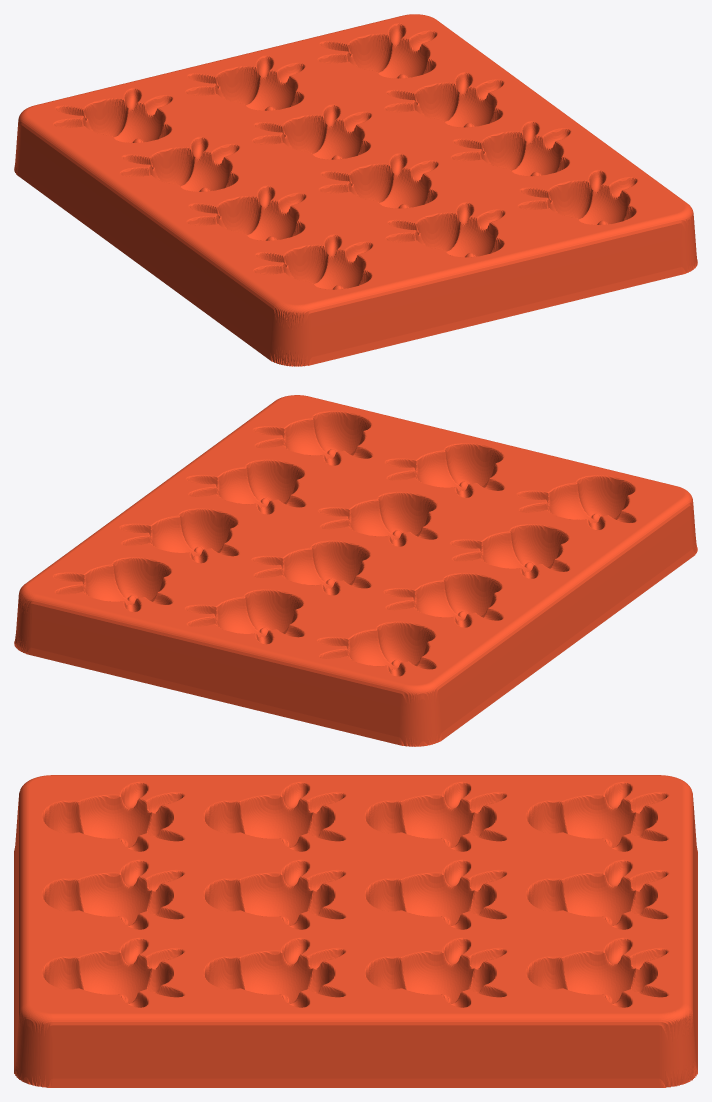
File: mold.glb
3 renders of one model, top to bottom at view 1: azimuth 30°, elevation 25°; view 2: azimuth 150°, elevation 25°; view 3: azimuth 270°, elevation 25°, orthographic. The views are drawn at different scales.
Parts seen in each view (by area): view 1: geometry_0; view 2: geometry_0; view 3: geometry_0.
Part boxes in pixels (<box>): geometry_0: <box>14,14,697,366</box>; geometry_0: <box>14,395,697,746</box>; geometry_0: <box>14,775,697,1087</box>.
Size of the model in its own units: 0.138 by 0.0175 by 0.1593.
